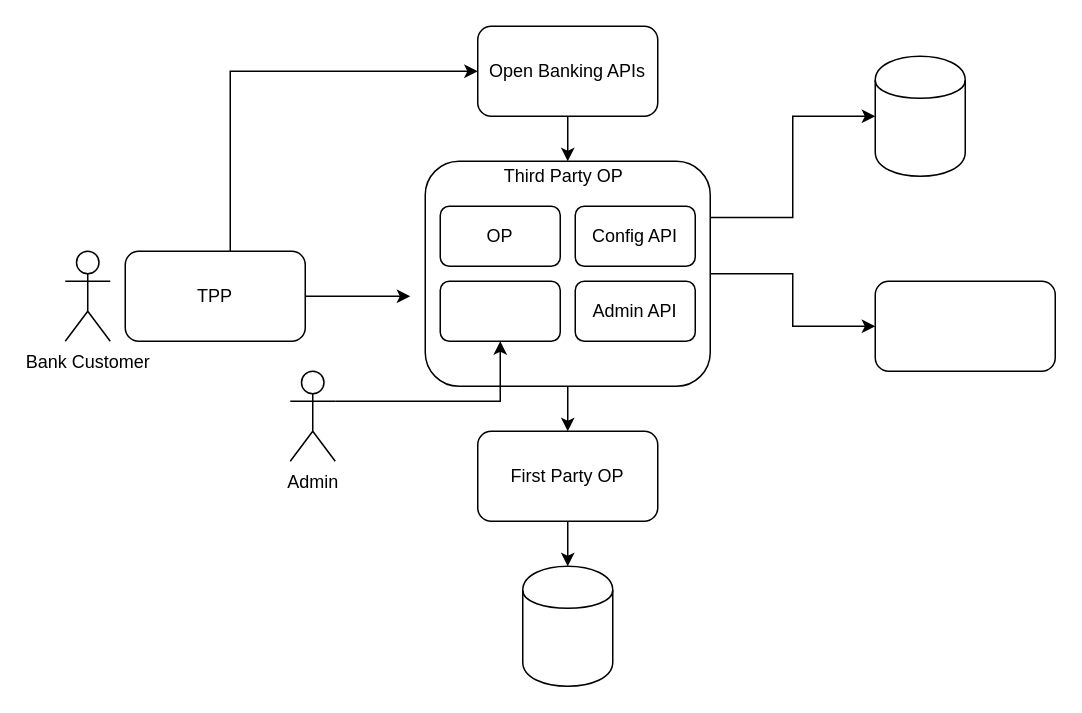
Some shapes in this 1082 by 713 pixel diagram are drawn without their labels. Each missing label, with the centre of its shape:
Admin UI: the point at 499,310
DB: the point at 567,625
OBIE Directory: the point at 964,325
RDBMS: the point at 919,115
